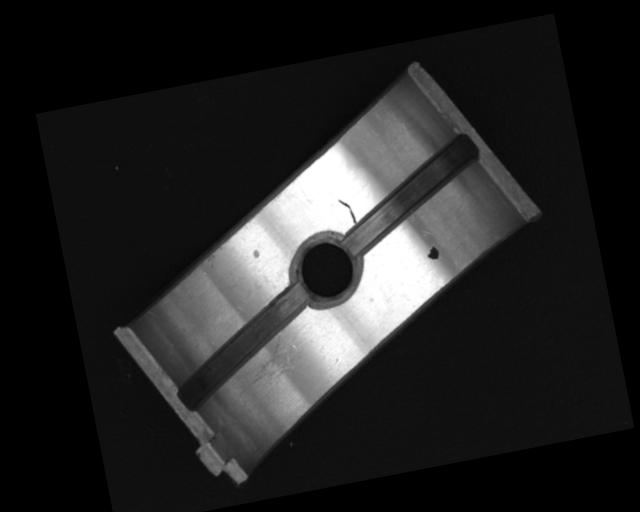blot: (424, 243, 440, 260)
bruise: (251, 248, 261, 260)
gap: (162, 281, 324, 412), (334, 134, 490, 254)
hole: (286, 229, 366, 308)
nick: (337, 197, 357, 227)
scratch: (226, 330, 302, 398)
